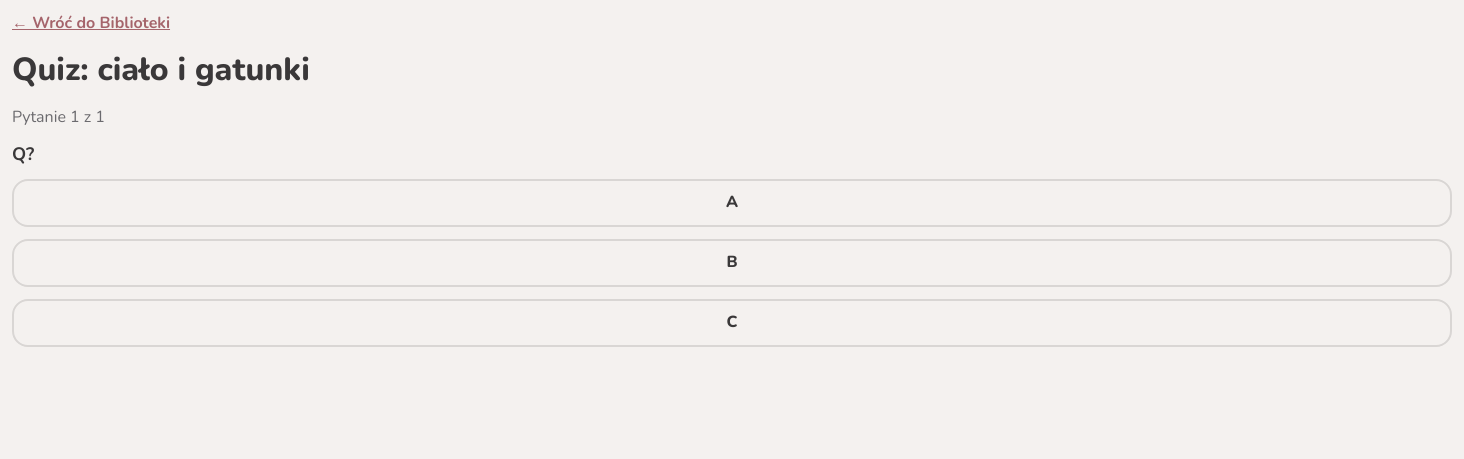
Test case: błędna odpowiedź w quizie pokazuje wyjaśnienie
Click the button "C": x=732, y=323 [12,299,1452,347]
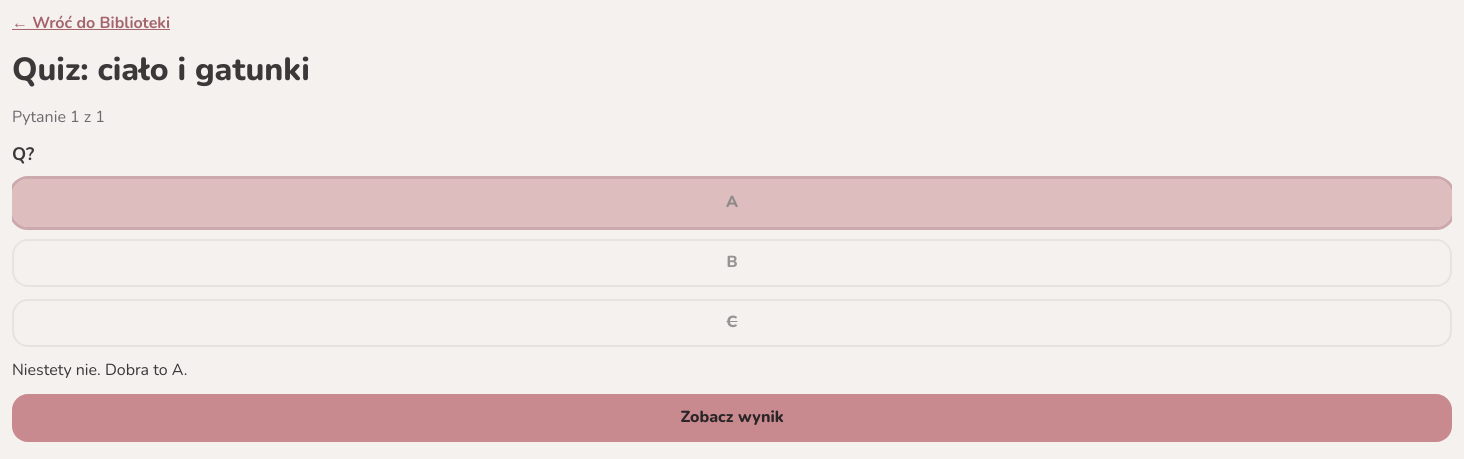
Expected: the message reads "Niestety nie. Dobra to A.", [12,359,187,381]
